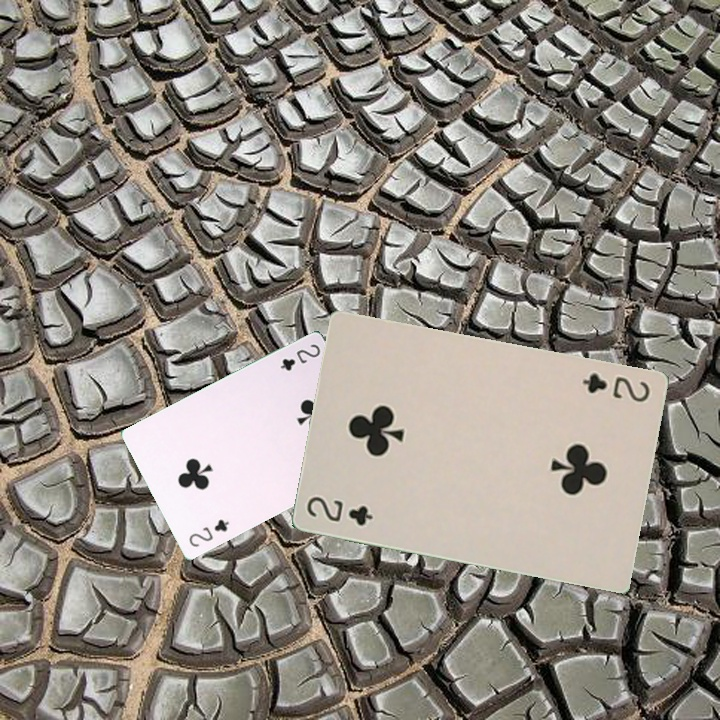2c: (302, 492, 376, 529), (578, 369, 653, 405), (185, 515, 232, 550), (276, 340, 323, 374)
